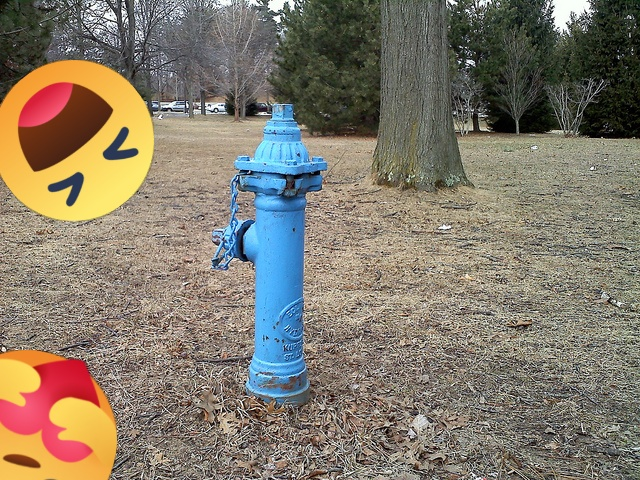care: (0, 350, 117, 480)
haha: (0, 60, 154, 221)
